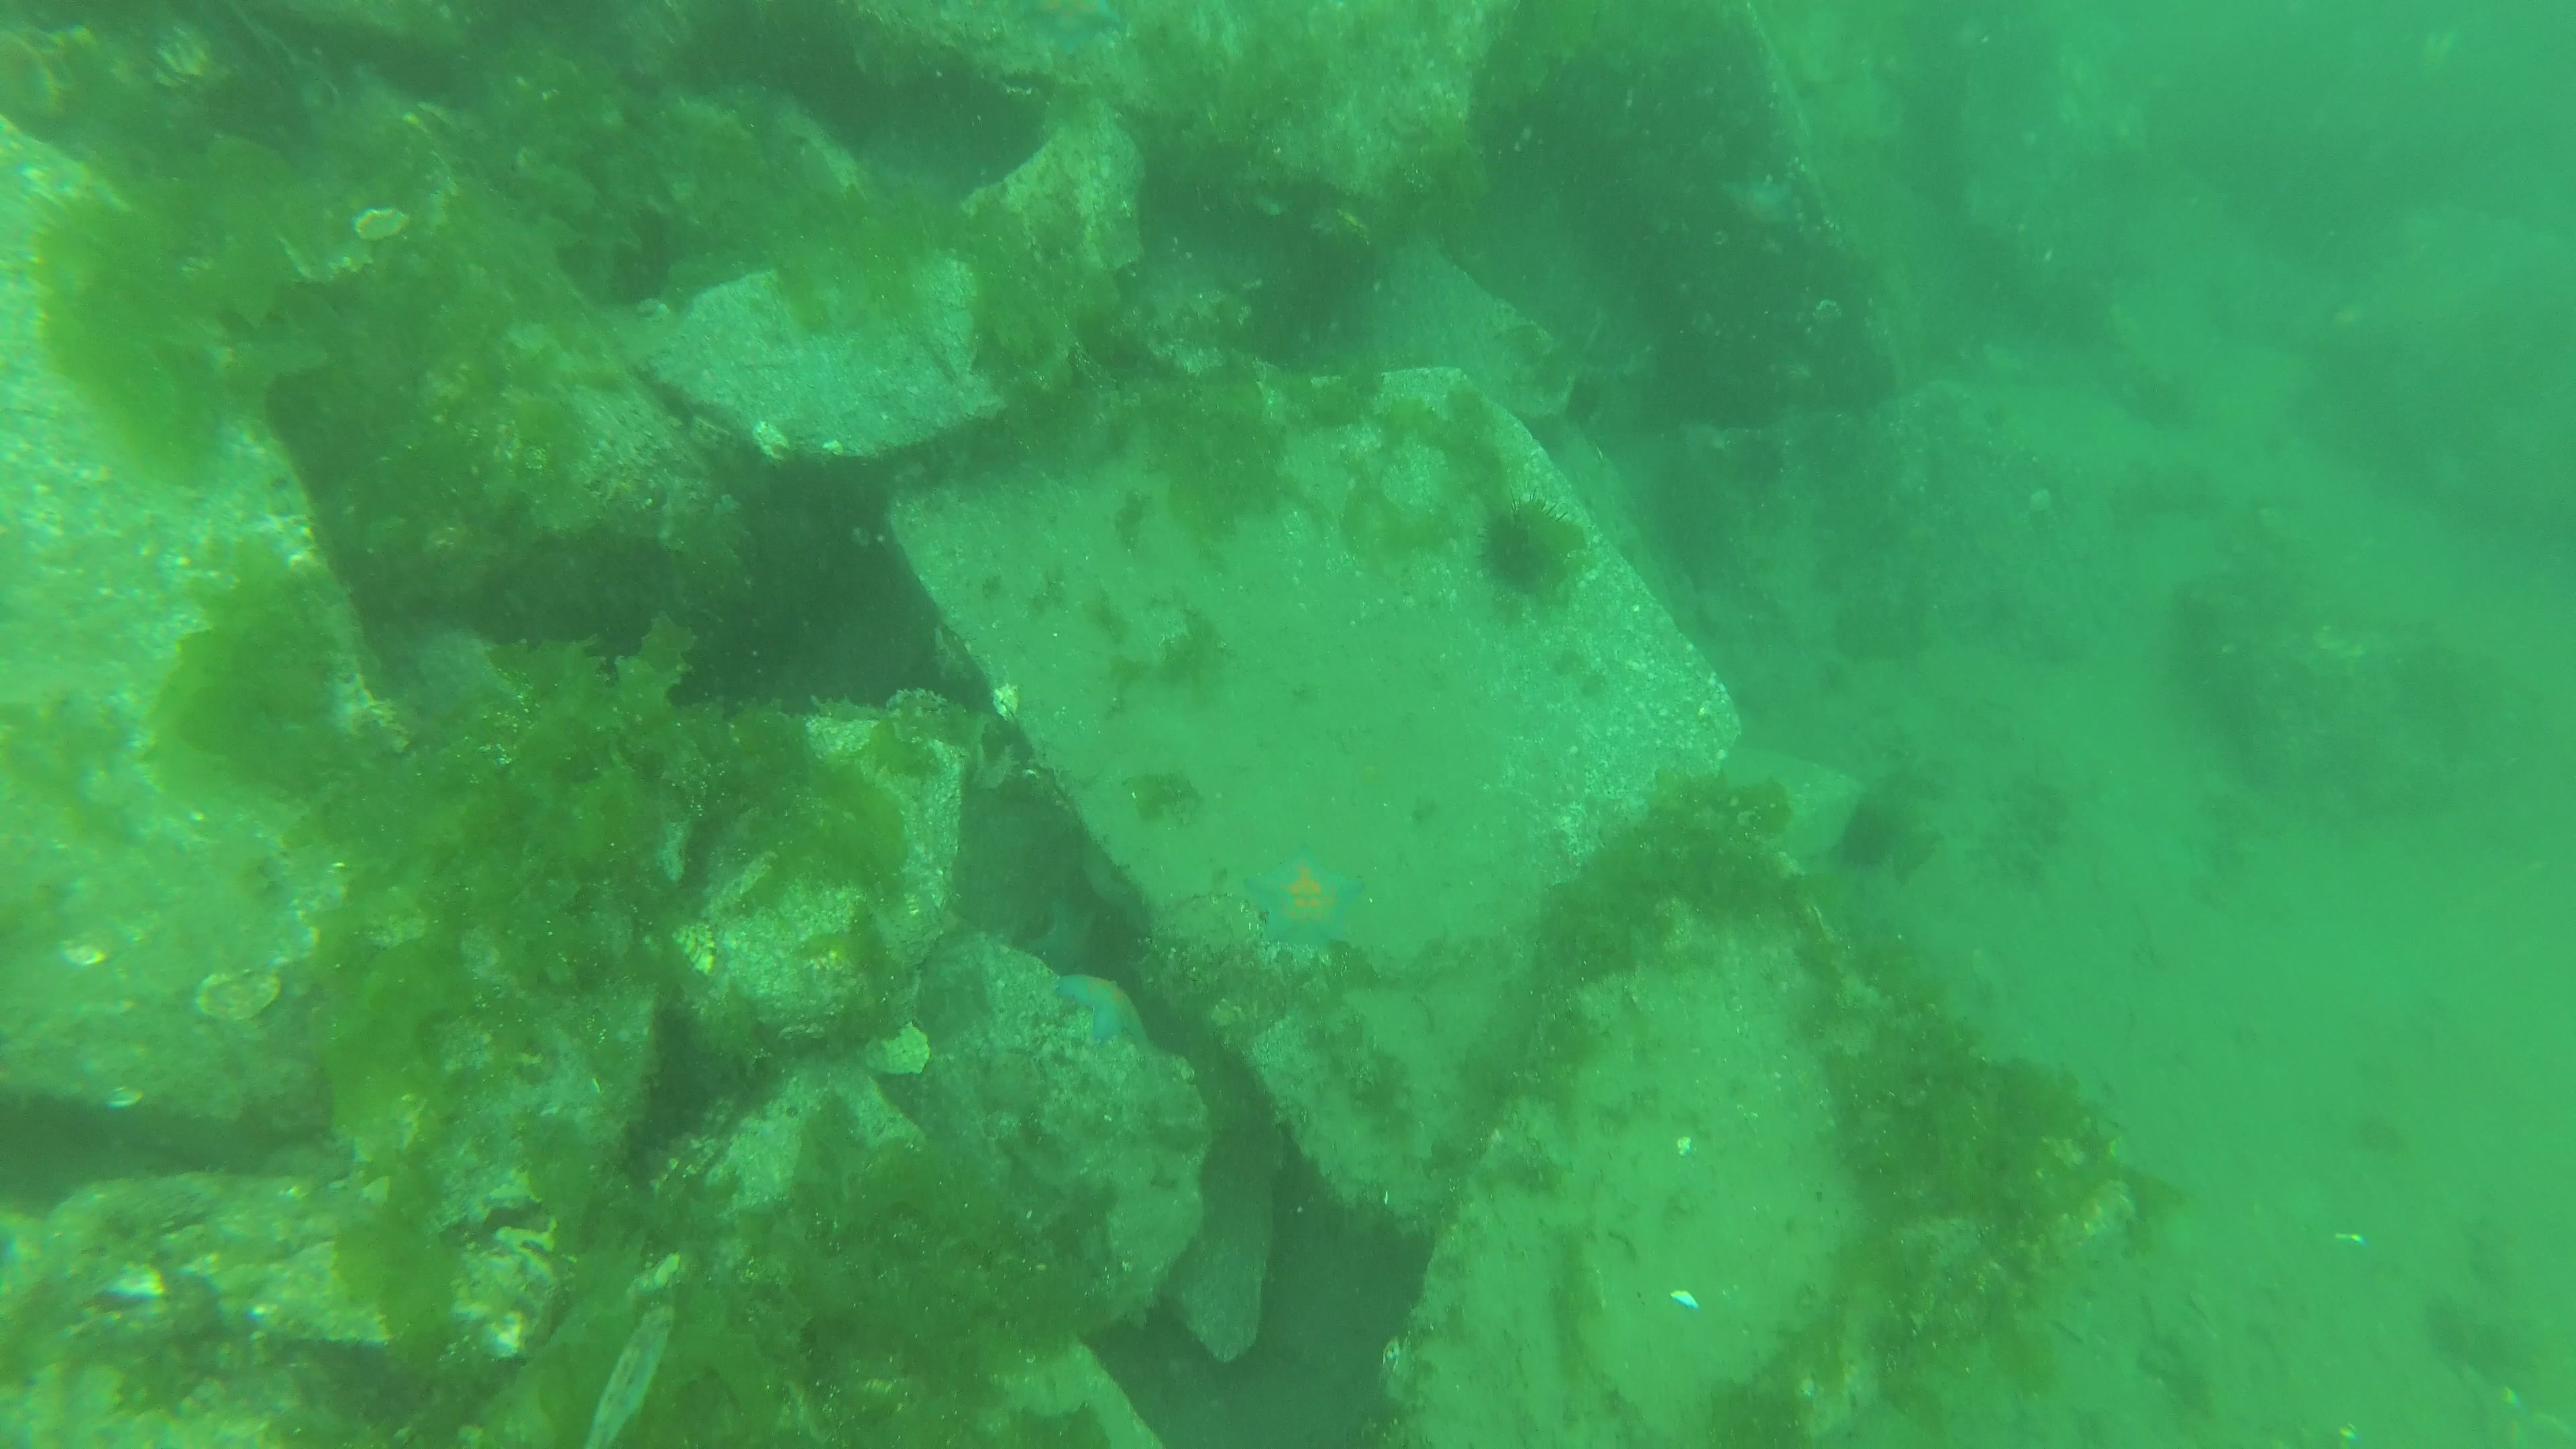echinus: (1472, 487, 1591, 600), (1840, 809, 1891, 869), (1736, 430, 1785, 490), (1566, 372, 1605, 423)
starfish: (1244, 844, 1362, 945), (1054, 973, 1154, 1044), (1081, 837, 1146, 931), (1028, 899, 1097, 978), (1716, 172, 1794, 228)
